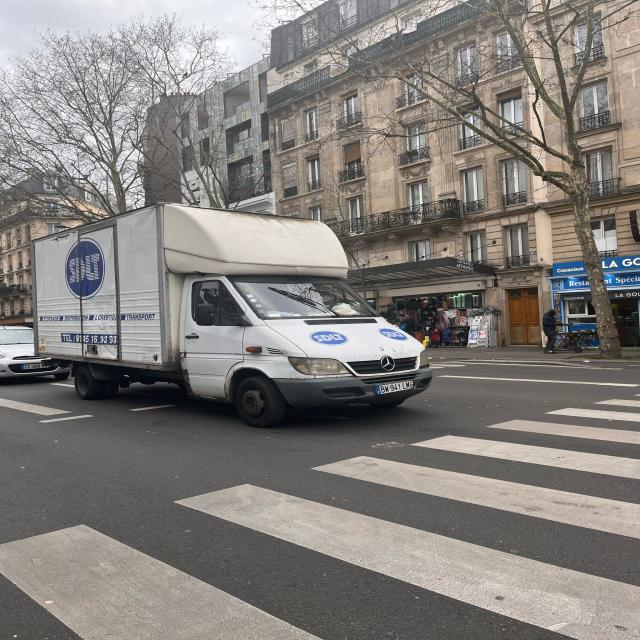EU: (375, 380, 414, 395)
France: (376, 386, 382, 394)
